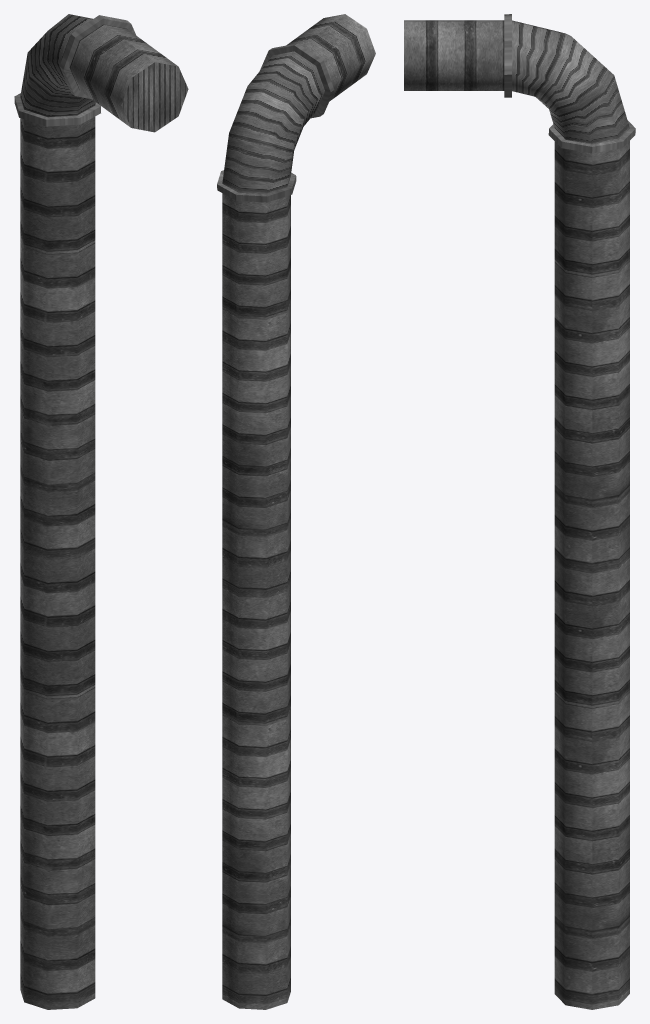
File: Vent_2.FBX
3 views of the same model, side by side, from view 1: azimuth 30°, elevation 25°; view 2: azimuth 150°, elevation 25°; view 3: azimuth 270°, elevation 25° (orthographic). The views are drawn at different scales.
Parts seen in each view (by area): view 1: Vent_2; view 2: Vent_2; view 3: Vent_2.
Part boxes in pixels (<box>): Vent_2: <box>14,14,188,1009</box>; Vent_2: <box>217,14,375,1009</box>; Vent_2: <box>404,14,635,1009</box>.
Bounding box in the file's own units: 0.2693 × 3.27 × 0.7011.
